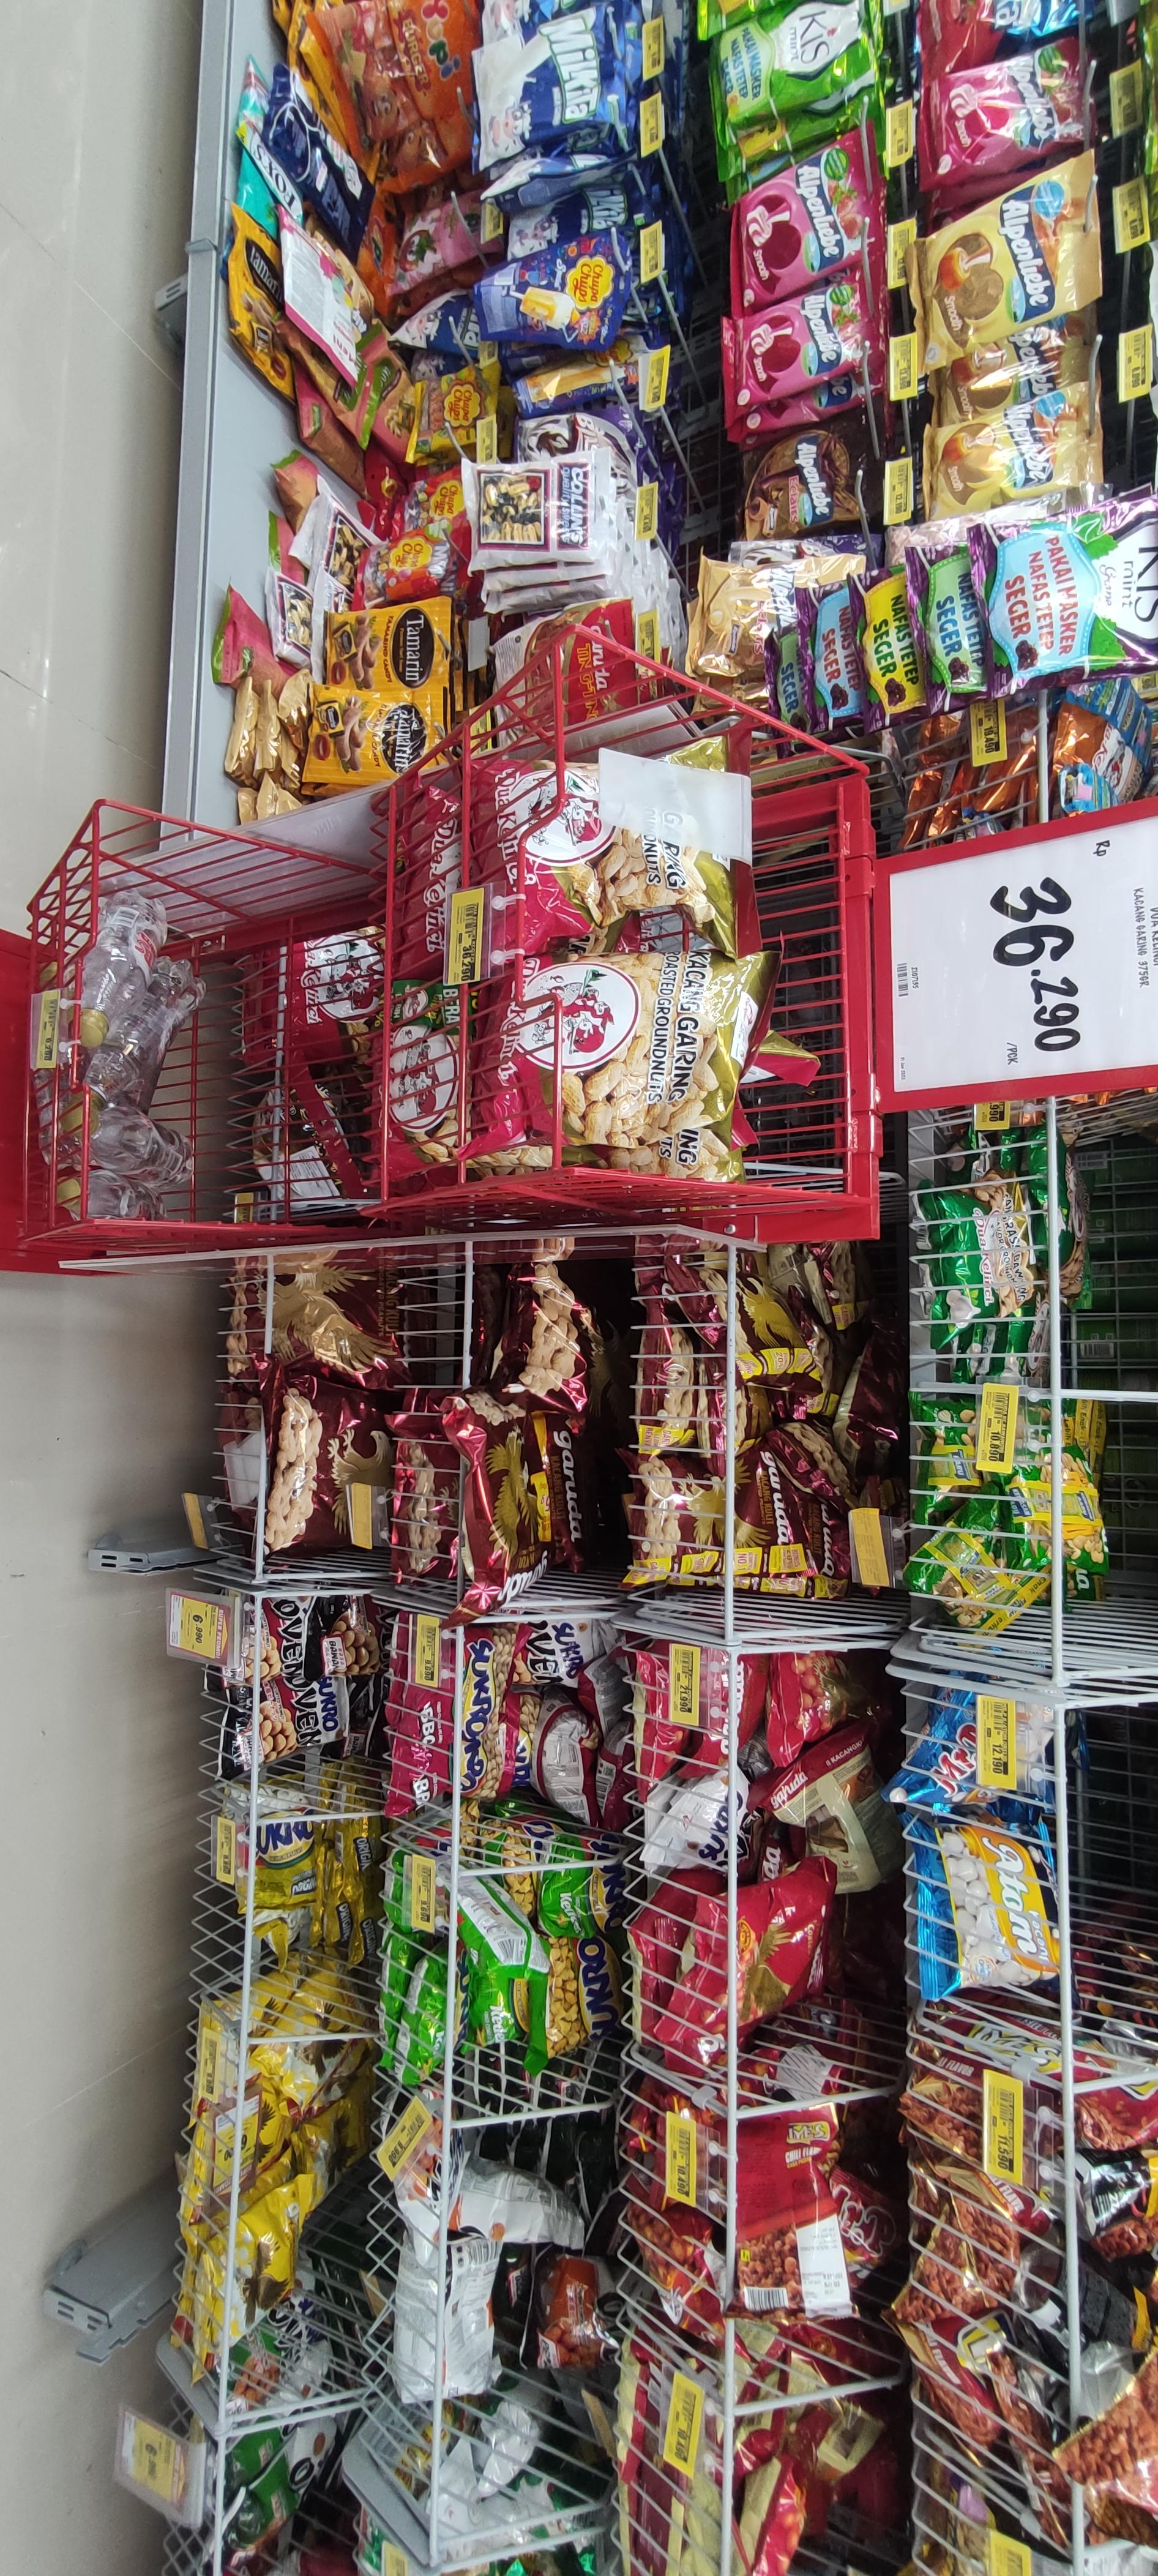90101112103100: (634, 1460, 805, 1594)
KacangGaringDuaKelinci: (481, 956, 756, 1153)
